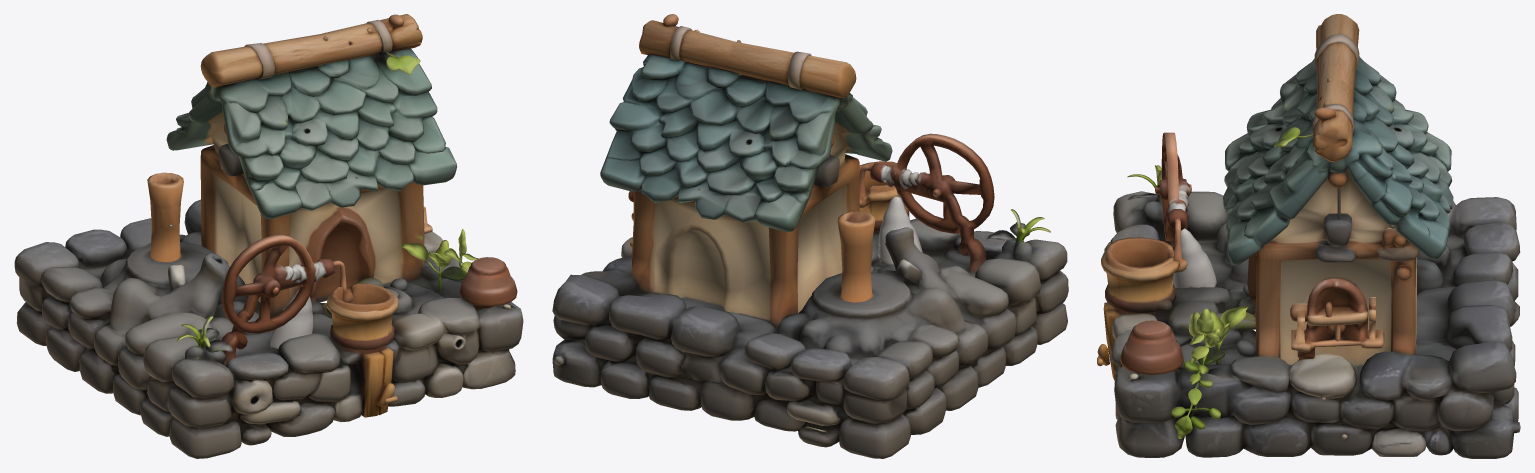
Rendered from ai_garden-well.glb.
The picture shows the model from 3 angles, left to right: view 1: azimuth 30°, elevation 25°; view 2: azimuth 150°, elevation 25°; view 3: azimuth 270°, elevation 25°; orthographic projection. The views are drawn at different scales.
Visible parts, largest first — view 1: tripo_node_af984843-ae57-4d79-8ac4-e176d4011e93; view 2: tripo_node_af984843-ae57-4d79-8ac4-e176d4011e93; view 3: tripo_node_af984843-ae57-4d79-8ac4-e176d4011e93.
Part boxes in pixels (box(x1,y1,x2,y2)): tripo_node_af984843-ae57-4d79-8ac4-e176d4011e93: box(14, 14, 523, 458); tripo_node_af984843-ae57-4d79-8ac4-e176d4011e93: box(552, 14, 1068, 458); tripo_node_af984843-ae57-4d79-8ac4-e176d4011e93: box(1097, 14, 1520, 458).
Bounding box in the file's own units: 1.9 × 1.58 × 1.81.
1 material, 1 textured.
